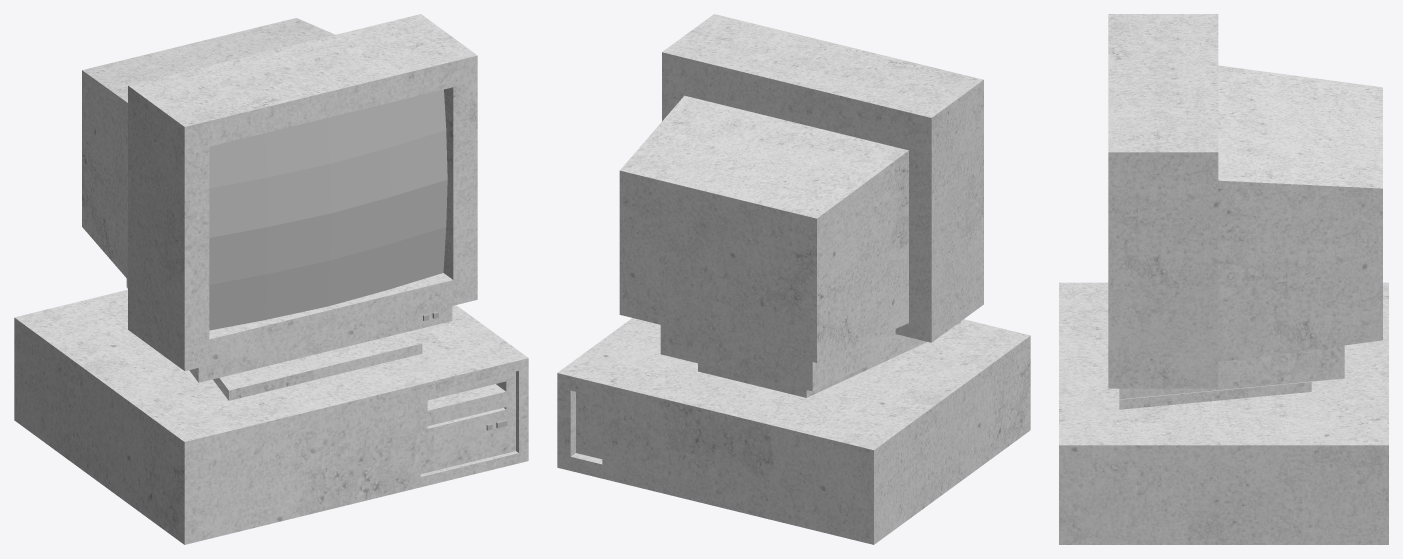
The picture shows the model from 3 angles, left to right: view 1: azimuth 30°, elevation 25°; view 2: azimuth 150°, elevation 25°; view 3: azimuth 270°, elevation 25°; orthographic projection. The views are drawn at different scales.
Visible parts, largest first — view 1: oldDesktop, oldDesktopCpu, oldDesktop.001; view 2: oldDesktop, oldDesktopCpu; view 3: oldDesktop, oldDesktopCpu.
Part boxes in pixels (x1,y1,x2,y2): oldDesktop: (82, 14, 477, 400); oldDesktopCpu: (14, 289, 528, 544); oldDesktop.001: (209, 89, 447, 330); oldDesktop: (619, 14, 983, 397); oldDesktopCpu: (557, 318, 1030, 544); oldDesktop: (1108, 14, 1382, 409); oldDesktopCpu: (1059, 282, 1388, 544).
Bounding box in the file's own units: 35 × 38.2 × 30.
